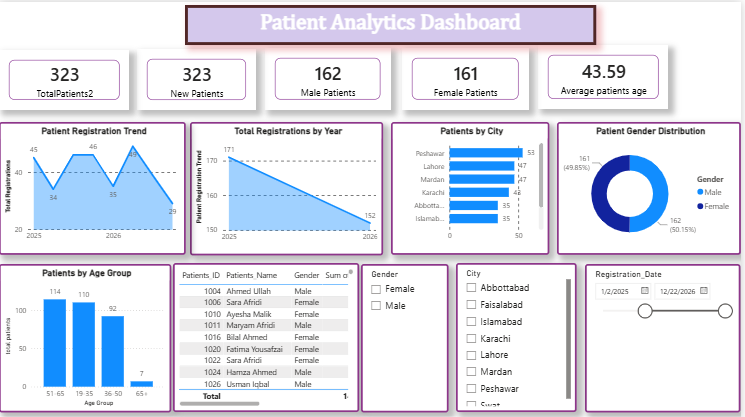

This screenshot's page, from the dashboard's own definition file:
{"tool":"powerbi","page":{"name":"Patients Analytics ","canvas":[1280,720],"ordinal":1},"visuals":[{"type":"textbox","box":[320.7,5.2,708.6,69],"z":0},{"type":"cardVisual","fields":{"Data":["Measures (2).TotalPatients2"]},"box":[0,83.1,225.4,103.4],"z":1000},{"type":"cardVisual","fields":{"Data":["Measures (2).Male Patients"]},"box":[459.3,79.7,216.9,106.8],"z":2000},{"type":"cardVisual","fields":{"Data":["Measures (2).Female Patients"]},"box":[694.9,79.7,218.6,106.8],"z":3000},{"type":"cardVisual","fields":{"Data":["Measures (2).New Patients"]},"box":[237.3,81.4,205.1,105.1],"z":4000},{"type":"cardVisual","fields":{"Data":["Measures (2).Average patients age"]},"box":[928.8,74.6,225.4,110.2],"z":5000},{"type":"lineChart","fields":{"Category":["patients.Registration_Date.Variation.Date Hierarchy.Year","patients.Registration_Date.Variation.Date Hierarchy.Quarter","patients.Registration_Date.Variation.Date Hierarchy.Month","patients.Registration_Date.Variation.Date Hierarchy.Day"],"Y":["Measures (2).Total Registrations"]},"box":[330.2,206.3,333.3,230.2],"z":6000},{"type":"lineChart","title":"Patient Registration Trend","fields":{"Category":["patients.Registration_Date.Variation.Date Hierarchy.Year","patients.Registration_Date.Variation.Date Hierarchy.Quarter","patients.Registration_Date.Variation.Date Hierarchy.Month","patients.Registration_Date.Variation.Date Hierarchy.Day"],"Y":["Measures (2).Total Registrations"]},"box":[0,206.8,322,228.8],"z":7000},{"type":"clusteredBarChart","title":"Patients by City","fields":{"Category":["patients.City"],"Y":["Measures (2).total patients"]},"box":[676.3,206.8,272.9,228.8],"z":8000},{"type":"donutChart","title":"Patient Gender Distribution","fields":{"Category":["patients.Gender"],"Y":["Measures (2).total patients"]},"box":[962.1,206.9,317.2,229.3],"z":9000},{"type":"clusteredColumnChart","title":"Patients by Age Group","fields":{"Category":["patients.Age Group"],"Y":["Measures (2).total patients"]},"box":[0,452.4,296.8,255.6],"z":10000},{"type":"tableEx","title":"Patient Details","fields":{"Values":["patients.Patients_ID","patients.Patients_Name","patients.Gender","Sum(patients.age)","patients.City","patients.Registration_Date.Variation.Date Hierarchy.Year","patients.Registration_Date.Variation.Date Hierarchy.Quarter","patients.Registration_Date.Variation.Date Hierarchy.Month","patients.Registration_Date.Variation.Date Hierarchy.Day"]},"box":[300,450.8,320.6,257.1],"z":11000},{"type":"slicer","fields":{"Values":["patients.Registration_Date"]},"box":[1011.1,452.4,268.3,255.6],"z":12000},{"type":"slicer","fields":{"Values":["patients.Gender"]},"box":[623.8,452.4,150.8,255.6],"z":13000},{"type":"slicer","fields":{"Values":["patients.City"]},"box":[787.3,450.8,207.9,257.1],"z":14000}]}

Visuals, with their boxes in screenshot pixels (x1, y1, x2, y2), scaled from the page's 1280x720 canvas onto the 745x417 screenshot:
textbox: pyautogui.locateOnScreen(187, 3, 599, 43)
cardVisual - Measures (2).TotalPatients2: pyautogui.locateOnScreen(0, 48, 131, 108)
cardVisual - Measures (2).Male Patients: pyautogui.locateOnScreen(267, 46, 394, 108)
cardVisual - Measures (2).Female Patients: pyautogui.locateOnScreen(404, 46, 532, 108)
cardVisual - Measures (2).New Patients: pyautogui.locateOnScreen(138, 47, 257, 108)
cardVisual - Measures (2).Average patients age: pyautogui.locateOnScreen(541, 43, 672, 107)
lineChart - patients.Registration_Date.Variation.Date Hierarchy.Year x patients.Registration_Date.Variation.Date Hierarchy.Quarter: pyautogui.locateOnScreen(192, 119, 386, 253)
"Patient Registration Trend" lineChart: pyautogui.locateOnScreen(0, 120, 187, 252)
"Patients by City" clusteredBarChart: pyautogui.locateOnScreen(394, 120, 552, 252)
"Patient Gender Distribution" donutChart: pyautogui.locateOnScreen(560, 120, 744, 253)
"Patients by Age Group" clusteredColumnChart: pyautogui.locateOnScreen(0, 262, 173, 410)
"Patient Details" tableEx: pyautogui.locateOnScreen(175, 261, 361, 410)
slicer - patients.Registration_Date: pyautogui.locateOnScreen(588, 262, 744, 410)
slicer - patients.Gender: pyautogui.locateOnScreen(363, 262, 451, 410)
slicer - patients.City: pyautogui.locateOnScreen(458, 261, 579, 410)
